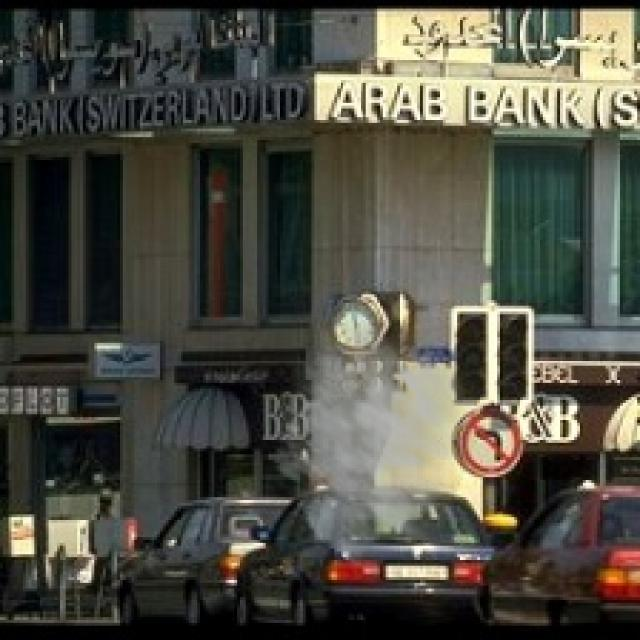Smoke: (266, 308, 497, 578)
